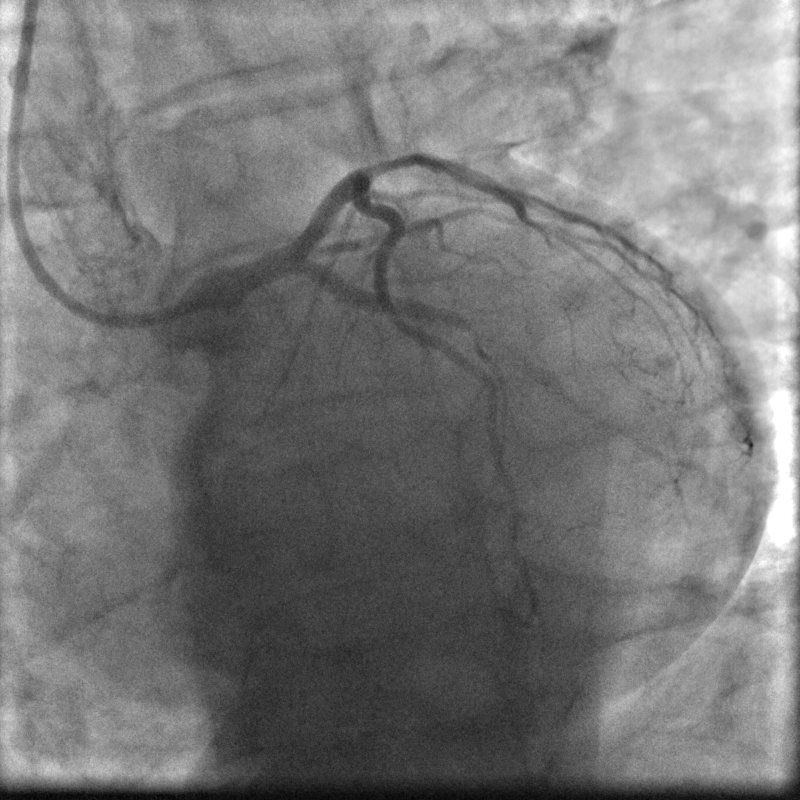Stenosis: (360, 140, 424, 181)
